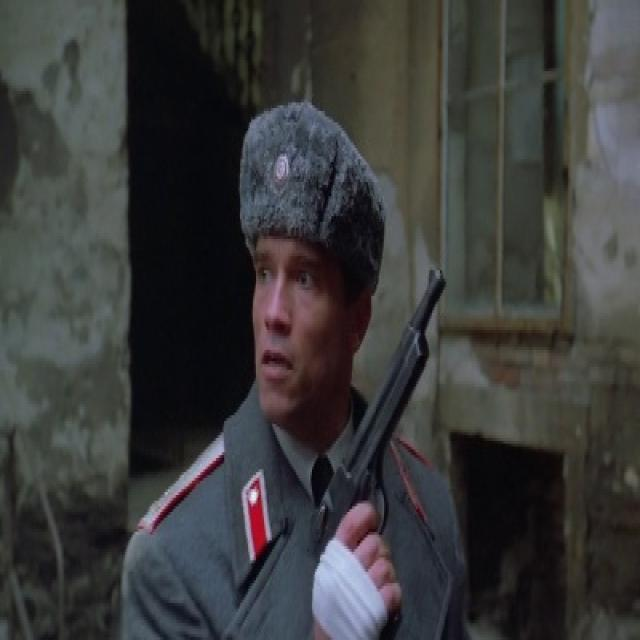weapons: (322, 232, 451, 636)
